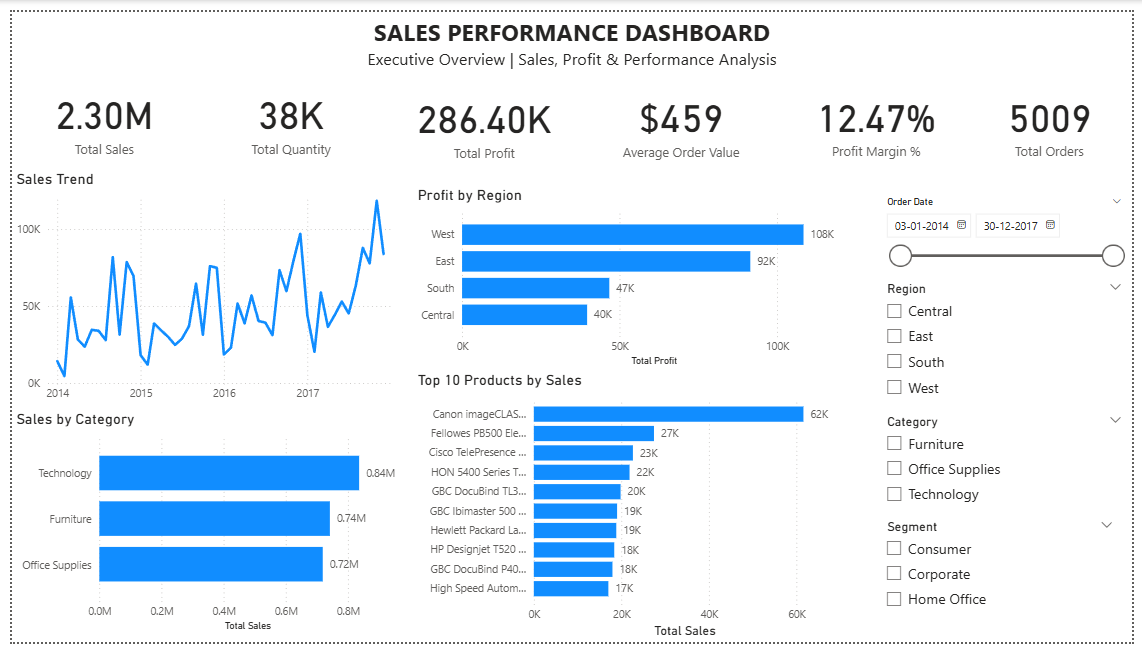

The dashboard page shown, as its layout file describes it:
{"tool":"powerbi","page":{"name":"Executive Overview","canvas":[1280,720],"ordinal":0},"visuals":[{"type":"card","fields":{"Values":["Sample - Superstore.Total Sales"]},"box":[0,68.6,211.4,111.4],"z":0},{"type":"card","fields":{"Values":["Sample - Superstore.Total Profit"]},"box":[427.1,72.9,225.7,111.4],"z":1000},{"type":"card","fields":{"Values":["Sample - Superstore.Total Orders"]},"box":[1091.4,71.4,188.6,111.4],"z":2000},{"type":"card","fields":{"Values":["Sample - Superstore.Total Quantity"]},"box":[211.4,68.6,215.7,111.4],"z":3000},{"type":"card","fields":{"Values":["Sample - Superstore.Profit Margin %"]},"box":[884.3,71.4,207.1,111.4],"z":4000},{"type":"card","fields":{"Values":["Sample - Superstore.Average Order Value"]},"box":[645.7,72.9,238.6,110],"z":5000},{"type":"lineChart","title":"Sales Trend","fields":{"Y":["Sample - Superstore.Total Sales"],"Category":["Sample - Superstore.Order Date.Variation.Date Hierarchy.Year","Sample - Superstore.Order Date.Variation.Date Hierarchy.Month"]},"box":[0,180,442.9,274.3],"z":6000},{"type":"clusteredBarChart","title":"Sales by Category","fields":{"Category":["Sample - Superstore.Category"],"Y":["Sample - Superstore.Total Sales"]},"box":[0,454.3,458.6,258.6],"z":7000},{"type":"clusteredBarChart","title":"Profit by Region","fields":{"Category":["Sample - Superstore.Region"],"Y":["Sample - Superstore.Total Profit"]},"box":[458.6,198.6,514.3,211.4],"z":8000},{"type":"slicer","fields":{"Values":["Sample - Superstore.Order Date"]},"box":[987.1,205.7,292.9,97.1],"z":9000},{"type":"slicer","fields":{"Values":["Sample - Superstore.Region"]},"box":[987.1,302.9,292.9,151.4],"z":10000},{"type":"slicer","fields":{"Values":["Sample - Superstore.Segment"]},"box":[987.1,574.3,282.9,138.6],"z":11000},{"type":"slicer","fields":{"Values":["Sample - Superstore.Category"]},"box":[987.1,454.3,292.9,120],"z":12000},{"type":"clusteredBarChart","title":"Top 10 Products by Sales","fields":{"Category":["Sample - Superstore.Product Name"],"Y":["Sample - Superstore.Total Sales"]},"box":[458.6,410,498.6,310],"z":13000},{"type":"textbox","box":[0,0,1280,71.4],"z":14000}]}

Visuals, with their boxes in screenshot pixels (x1, y1, x2, y2), scaled from the page's 1280x720 canvas onto the 1142x651 screenshot:
card - Sample - Superstore.Total Sales: box(0, 62, 189, 163)
card - Sample - Superstore.Total Profit: box(381, 66, 582, 167)
card - Sample - Superstore.Total Orders: box(974, 65, 1141, 165)
card - Sample - Superstore.Total Quantity: box(189, 62, 381, 163)
card - Sample - Superstore.Profit Margin %: box(789, 65, 974, 165)
card - Sample - Superstore.Average Order Value: box(576, 66, 789, 165)
"Sales Trend" lineChart: box(0, 163, 395, 411)
"Sales by Category" clusteredBarChart: box(0, 411, 409, 645)
"Profit by Region" clusteredBarChart: box(409, 180, 868, 371)
slicer - Sample - Superstore.Order Date: box(881, 186, 1141, 274)
slicer - Sample - Superstore.Region: box(881, 274, 1141, 411)
slicer - Sample - Superstore.Segment: box(881, 519, 1133, 645)
slicer - Sample - Superstore.Category: box(881, 411, 1141, 519)
"Top 10 Products by Sales" clusteredBarChart: box(409, 371, 854, 650)
textbox: box(0, 0, 1141, 65)
